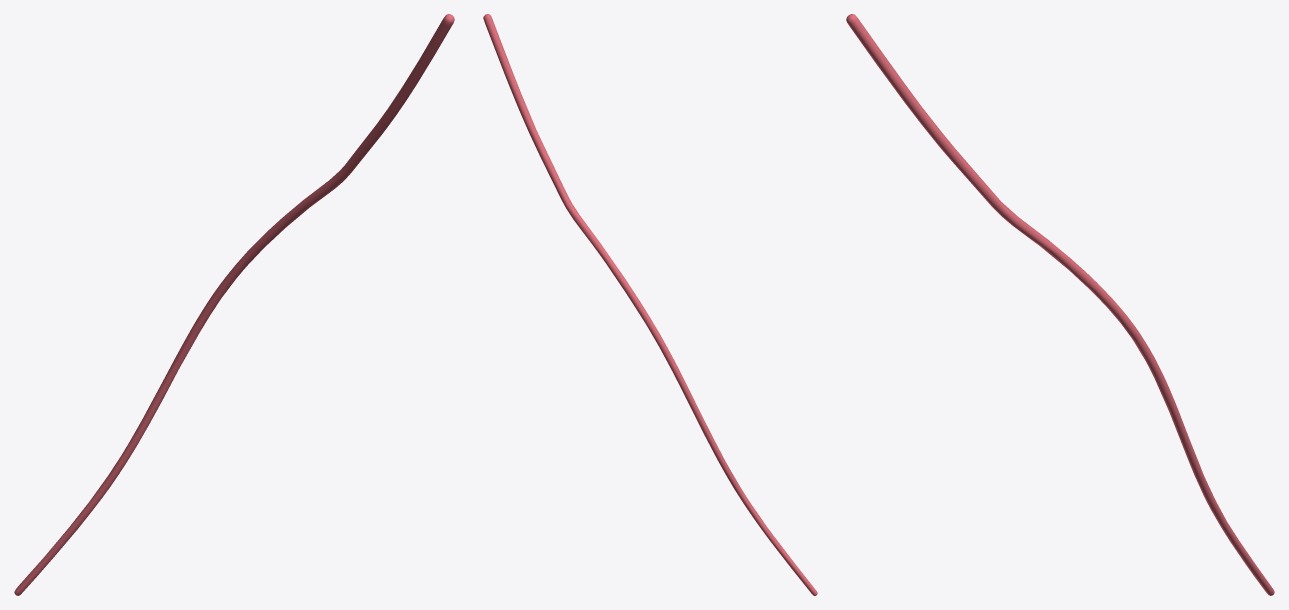
File: fma68068_fj3452.glb
The picture shows the model from 3 angles, left to right: view 1: azimuth 30°, elevation 25°; view 2: azimuth 210°, elevation 25°; view 3: azimuth 270°, elevation 25°; orthographic projection. The views are drawn at different scales.
Parts seen in each view (by area): view 1: FMA68068_FJ3452; view 2: FMA68068_FJ3452; view 3: FMA68068_FJ3452.
Part boxes in pixels (x1=…): FMA68068_FJ3452: x1=14, y1=14, x2=454, y2=595; FMA68068_FJ3452: x1=483, y1=14, x2=817, y2=595; FMA68068_FJ3452: x1=846, y1=14, x2=1274, y2=595.
Size of the model in its own units: 0.0213 by 0.0578 by 0.0322.
